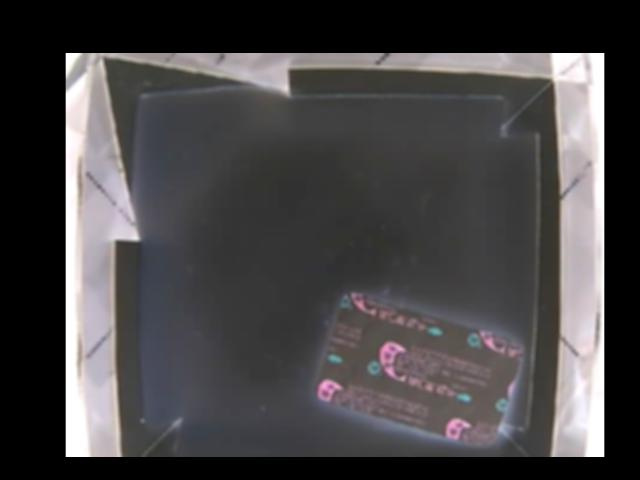Medicine: (313, 292, 526, 442)
